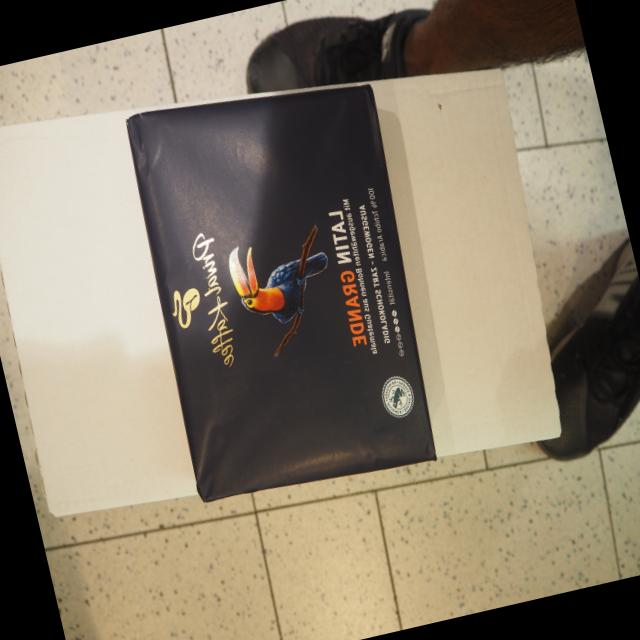LG Gemahlen: (121, 80, 443, 506)
